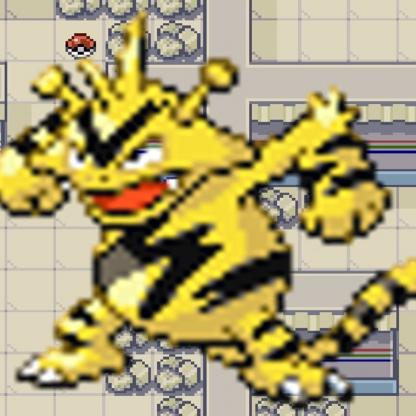Electabuzz: (11, 1, 416, 416)
